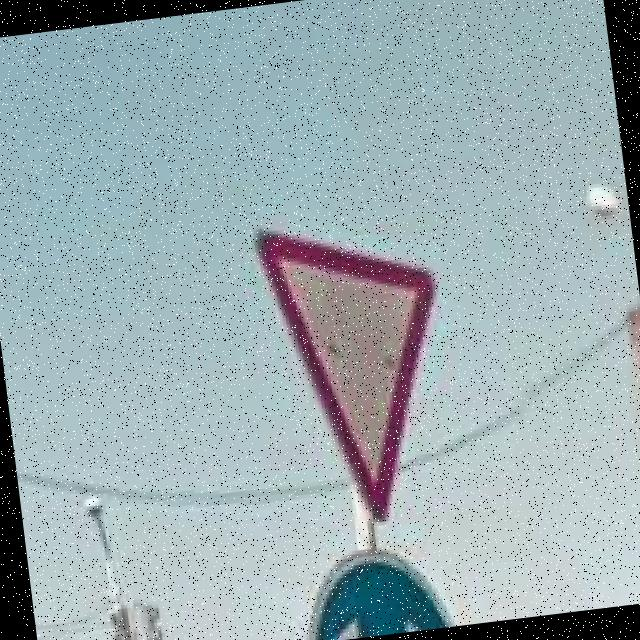Ustap pierwszenstwa: (252, 208, 466, 532)
